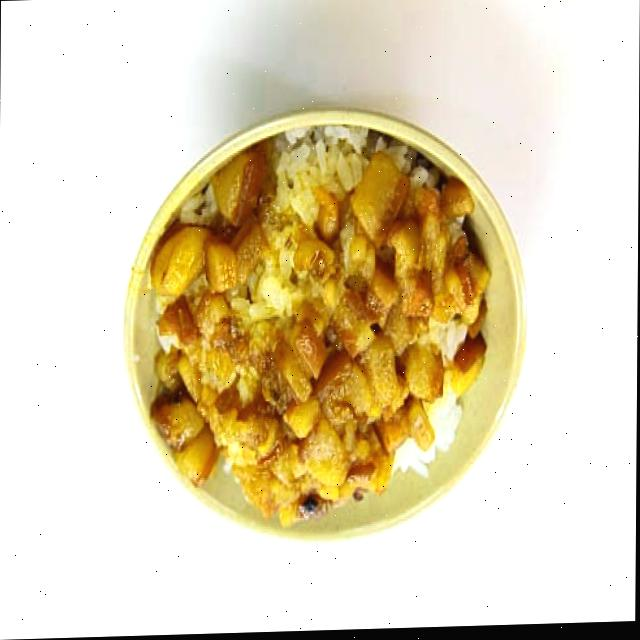猪肉菜式: (101, 85, 548, 583)
